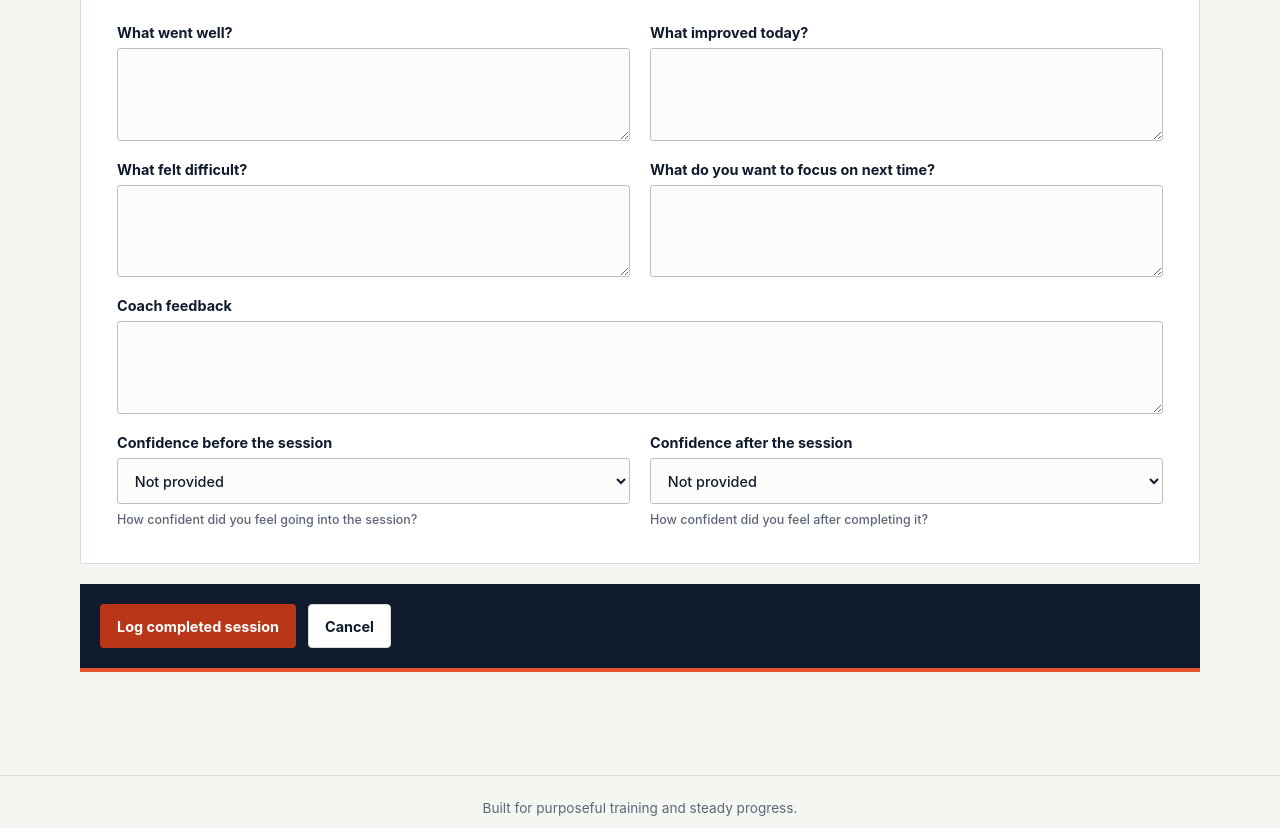
Scenario: session completion and reflection › validates the required ratings
(page scrolled)
Click the button "Log completed session".
click(198, 626)  # box [100,604,296,648]
(page scrolled)
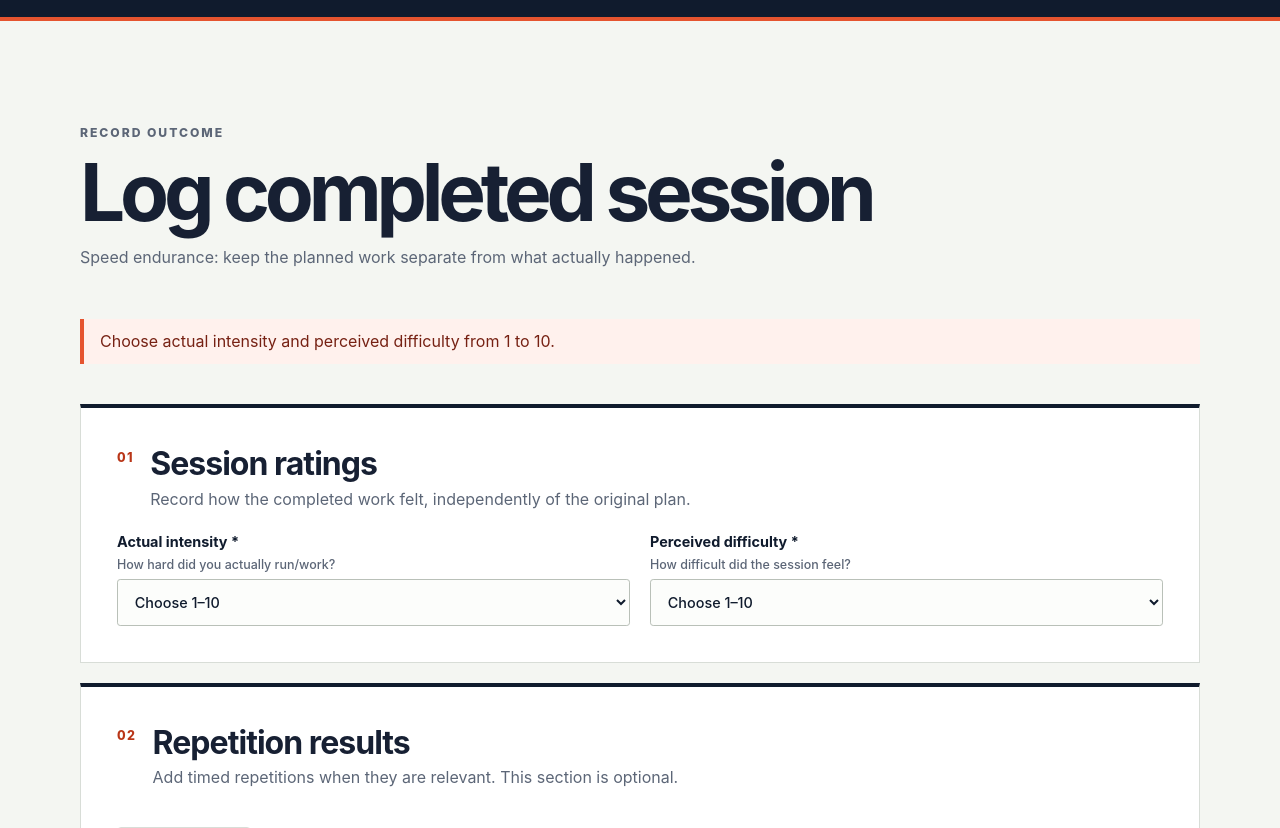
Result: the message reads "Choose actual intensity and perceived difficulty from 1 to 10." at [100,331,555,351]
